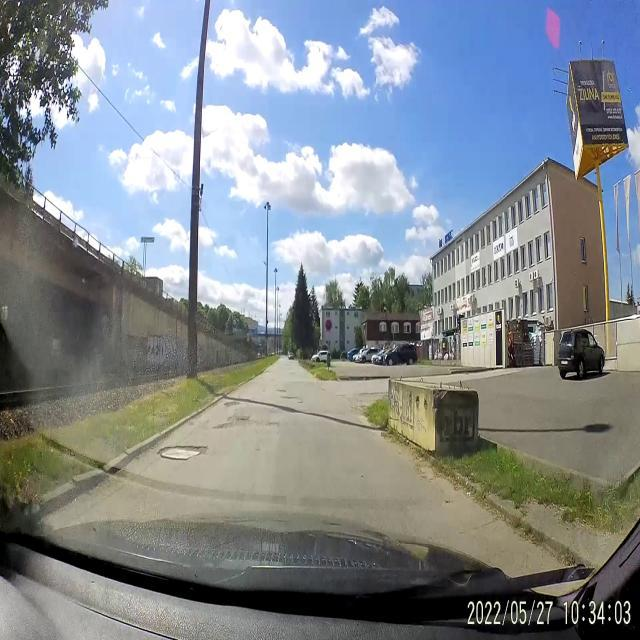Pothole: (158, 442, 209, 465), (216, 414, 250, 432), (280, 393, 302, 403), (222, 399, 242, 409), (264, 420, 280, 430), (276, 385, 288, 395)
